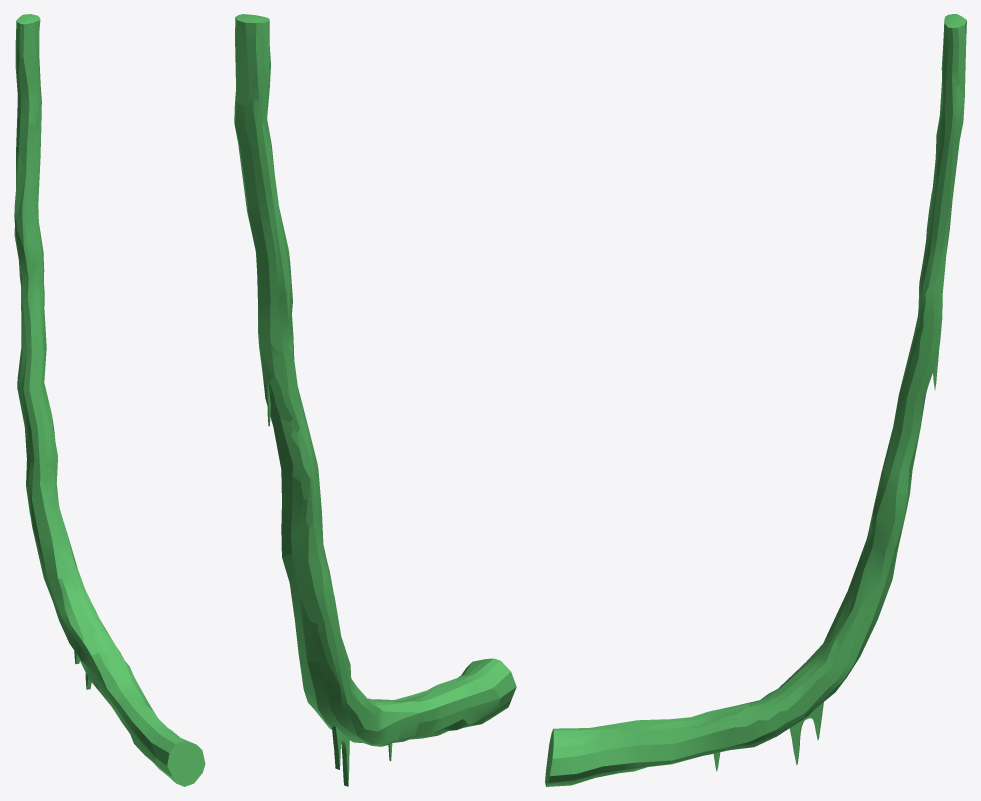
File: jungle_trunk_B.fbx
The picture shows the model from 3 angles, left to right: view 1: azimuth 30°, elevation 25°; view 2: azimuth 150°, elevation 25°; view 3: azimuth 270°, elevation 25°; orthographic projection. The views are drawn at different scales.
Parts seen in each view (by area): view 1: jungle_trunk_B; view 2: jungle_trunk_B, jungle_trunk_B_liana_B; view 3: jungle_trunk_B.
Boxes of the visible parts, box(x1,y1,x2,y2) form: jungle_trunk_B: box(14, 14, 205, 786); jungle_trunk_B: box(234, 14, 516, 746); jungle_trunk_B_liana_B: box(332, 726, 349, 786); jungle_trunk_B: box(545, 14, 966, 786).
Bounding box in the file's own units: 73.03 × 1062 × 527.
